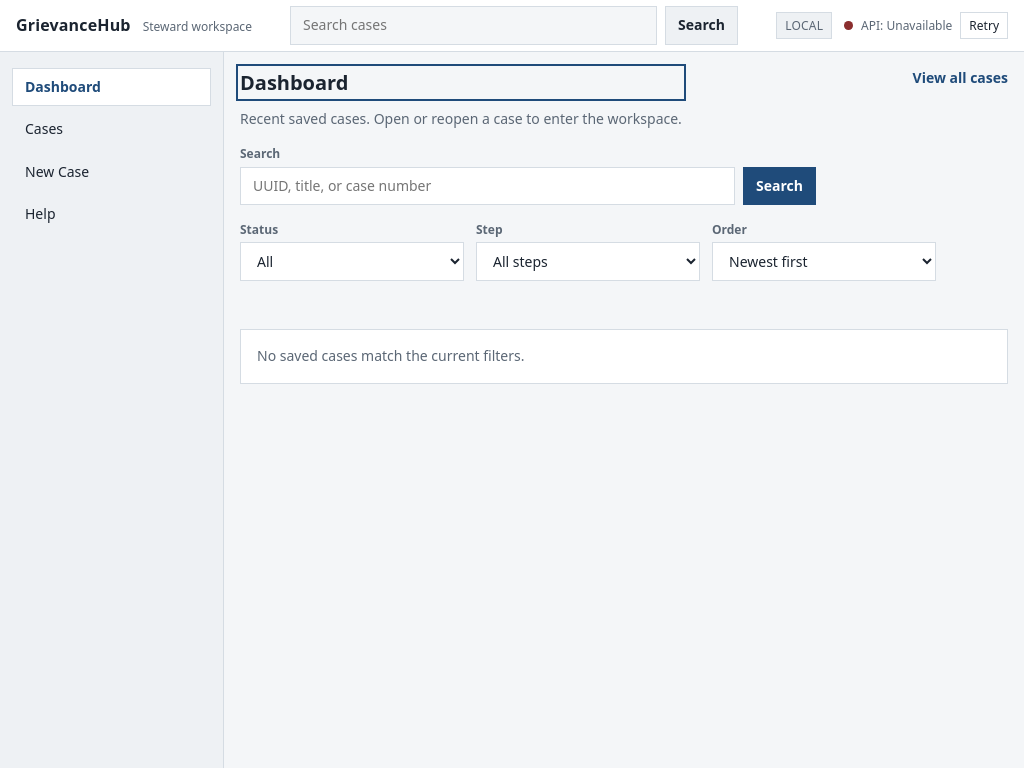
ConnectionStatus health indicator › renders Unavailable with a retry control when health fails
Expected: the text "API: Unavailable" is shown, [861,17,952,34]
Click the button "Retry" at {"x": 984, "y": 26}, box [960,12,1008,39]
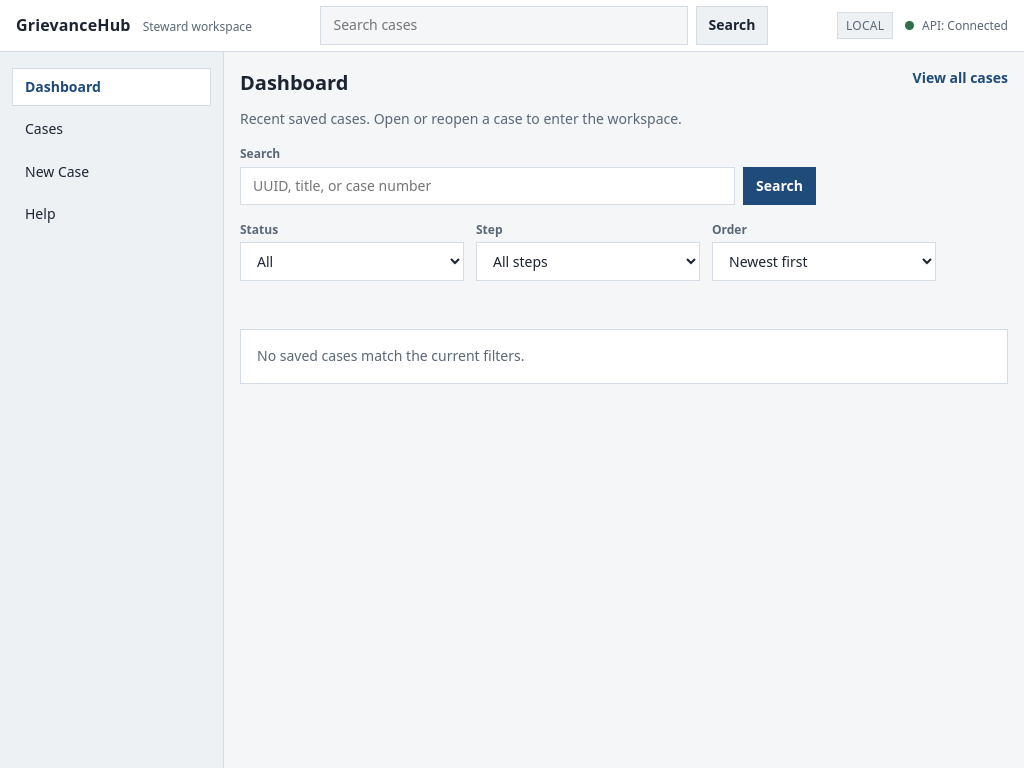
Expected: the text "API: Connected" is shown, [922,17,1008,34]
